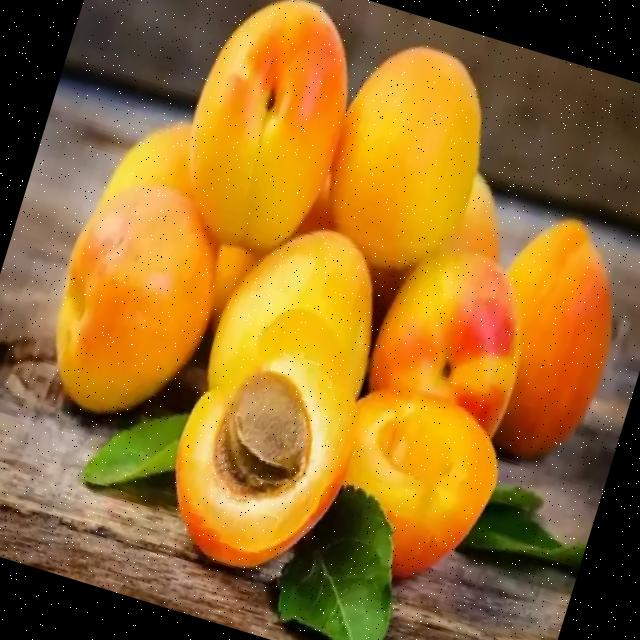Cekirdek: (226, 375, 308, 480)
Kayisi: (176, 230, 372, 566)
Yaprak: (278, 486, 392, 640)
